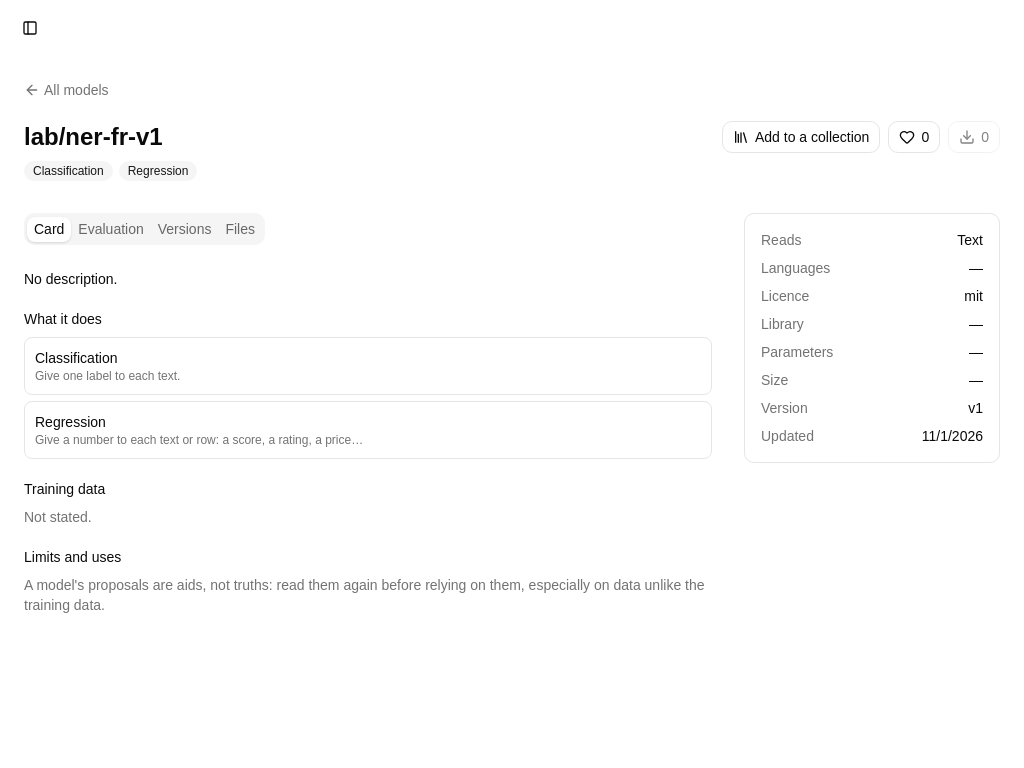
shows an evaluation whose predictions are still arriving or waiting for a worker, with no metric yet
Click the tab "Evaluation".
click(111, 229)  # box [71,216,151,242]
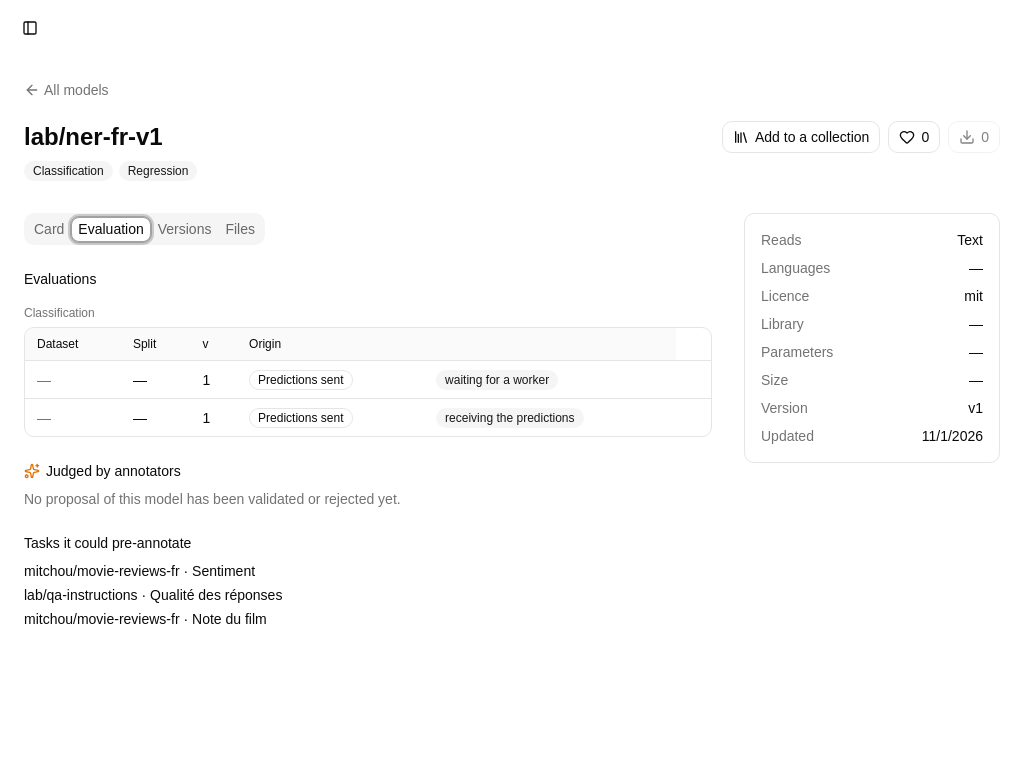
Result: the text "receiving the predictions" is shown at [436,408,584,428]
Result: the text "waiting for a worker" is shown at [436,370,558,390]
